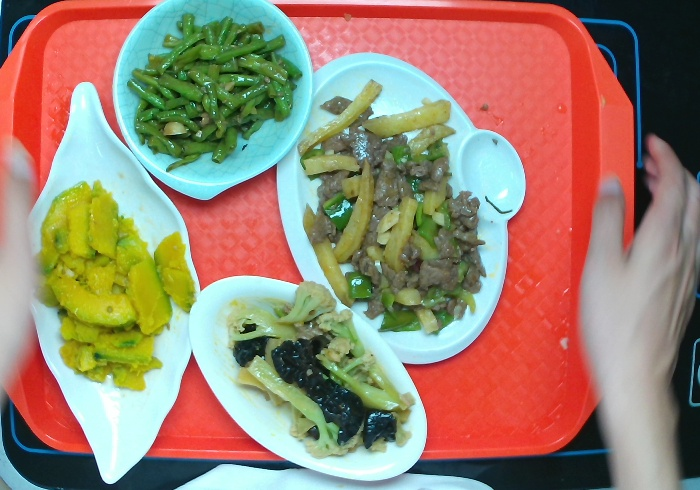RJxy-Bai_Se_Tuo_Yuan: (185, 271, 429, 482)
RJxy-Shu_Ye_Pan: (28, 72, 208, 490)
RJxy-Xiao_Jiao_Yuan_Wan: (113, 1, 320, 213)
RJxy-Zhan_Liao_Pan: (277, 52, 525, 366)
